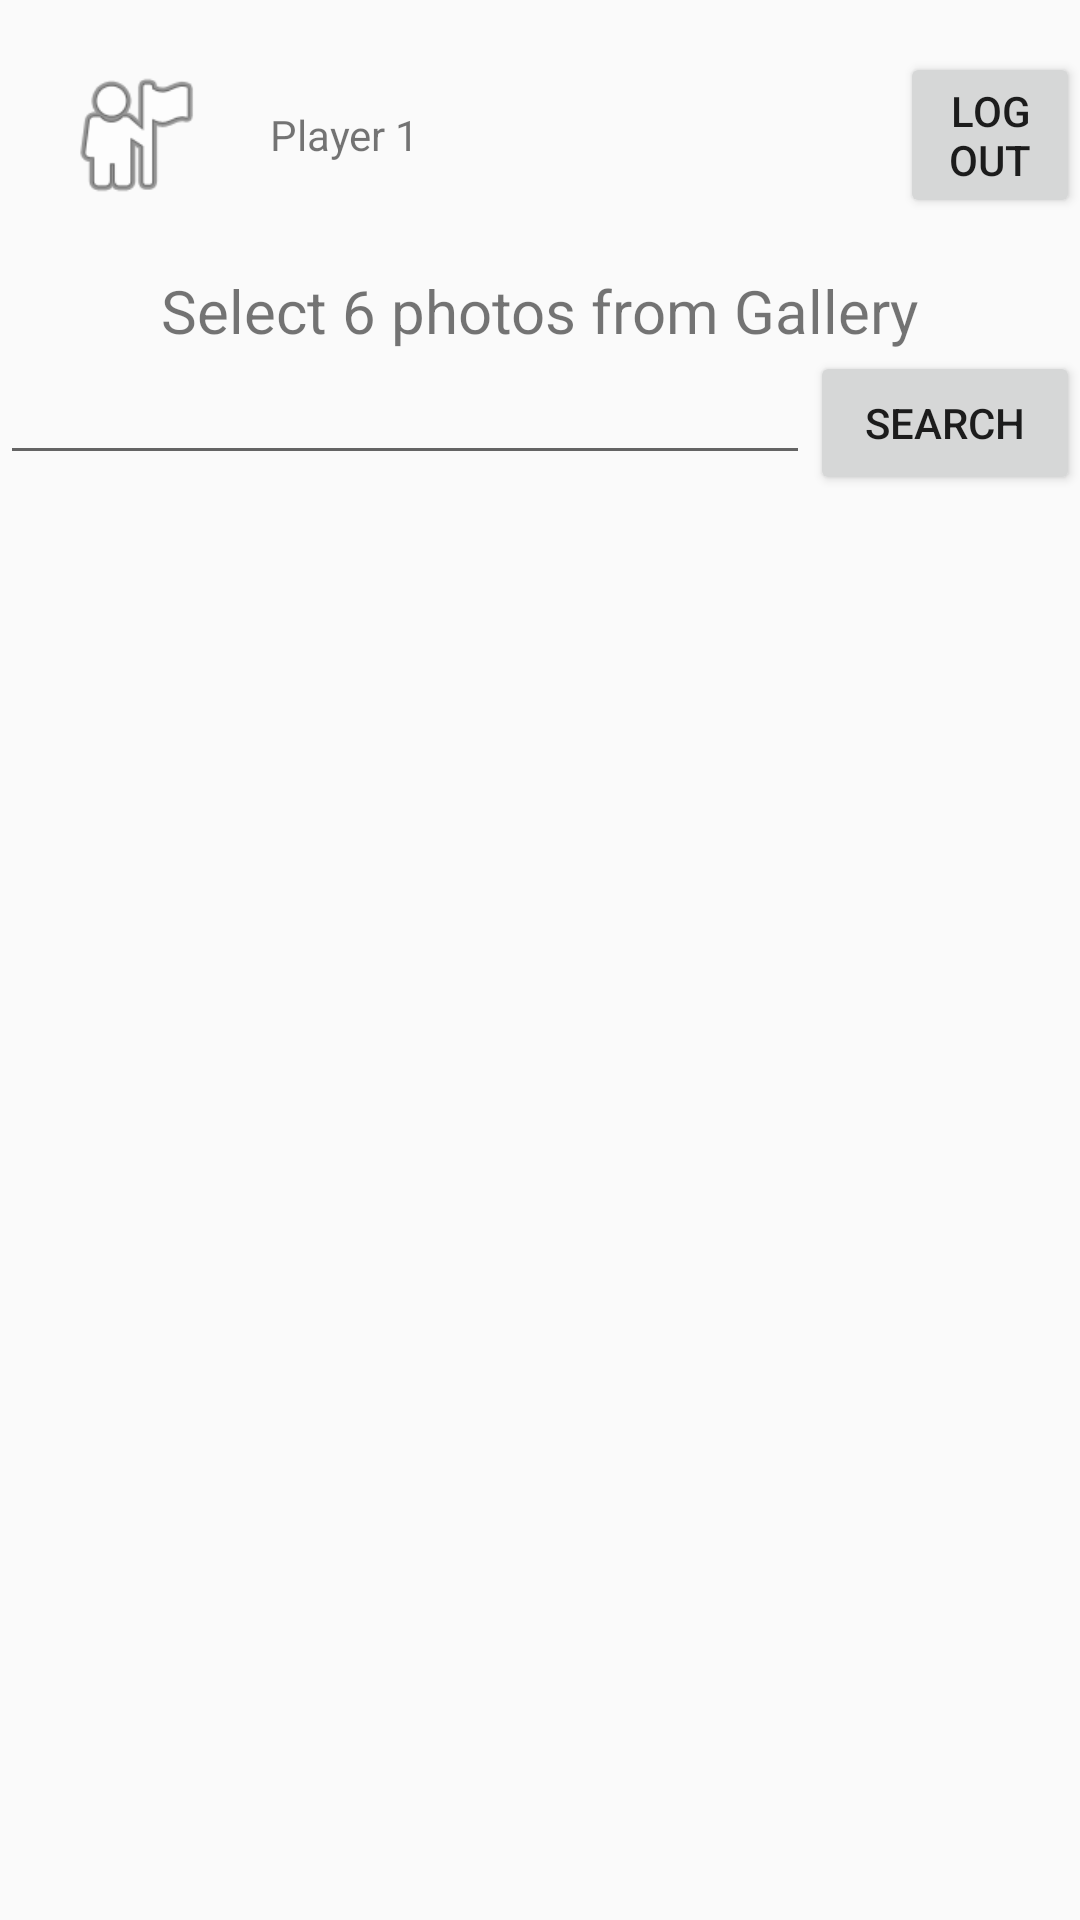

Named icons in this screenshot (1080*1920) and their centers, point (x, y):
myplaces: point (136, 135)
